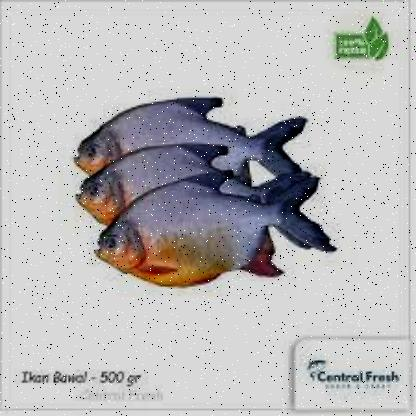ikan-pacu: (95, 183, 290, 297), (75, 96, 268, 170), (77, 144, 238, 222)
